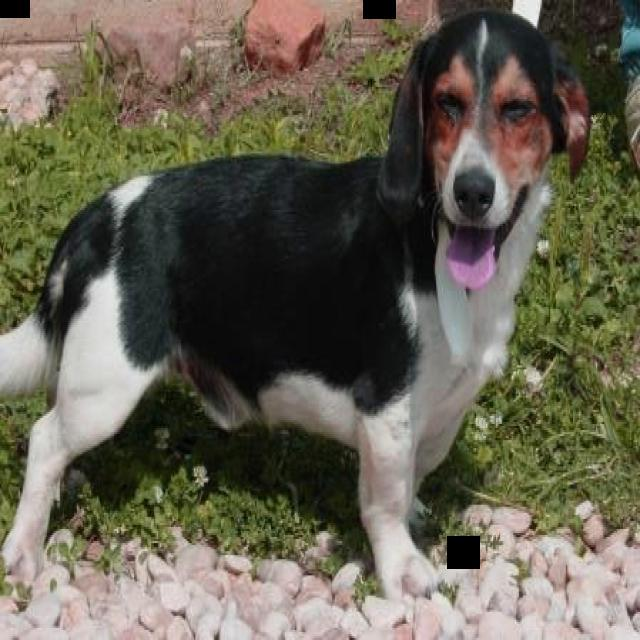adult_dog: (0, 8, 594, 604)
